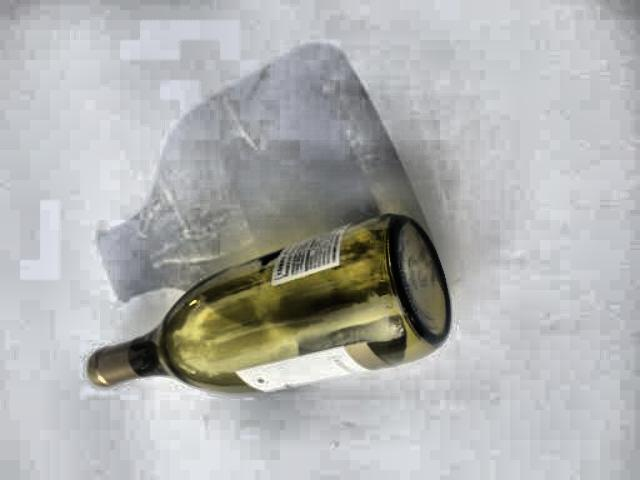Bottles: (83, 195, 457, 437)
